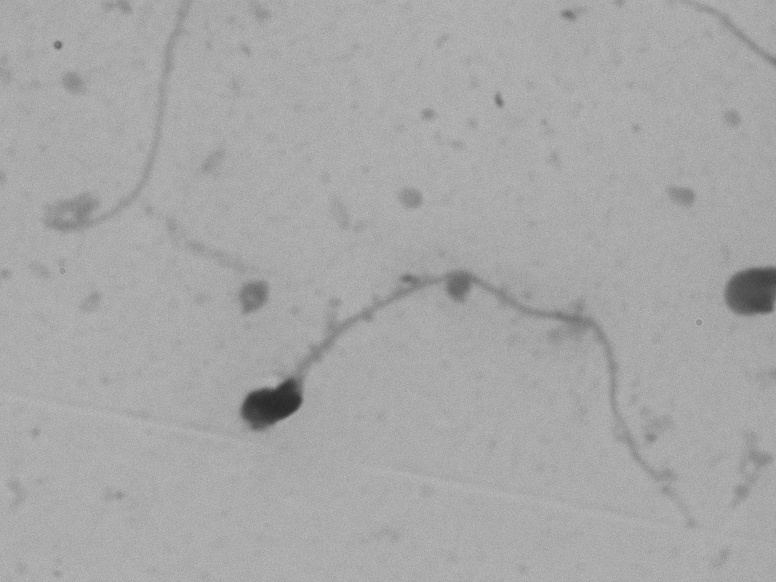Abnormal: (216, 233, 687, 529)
